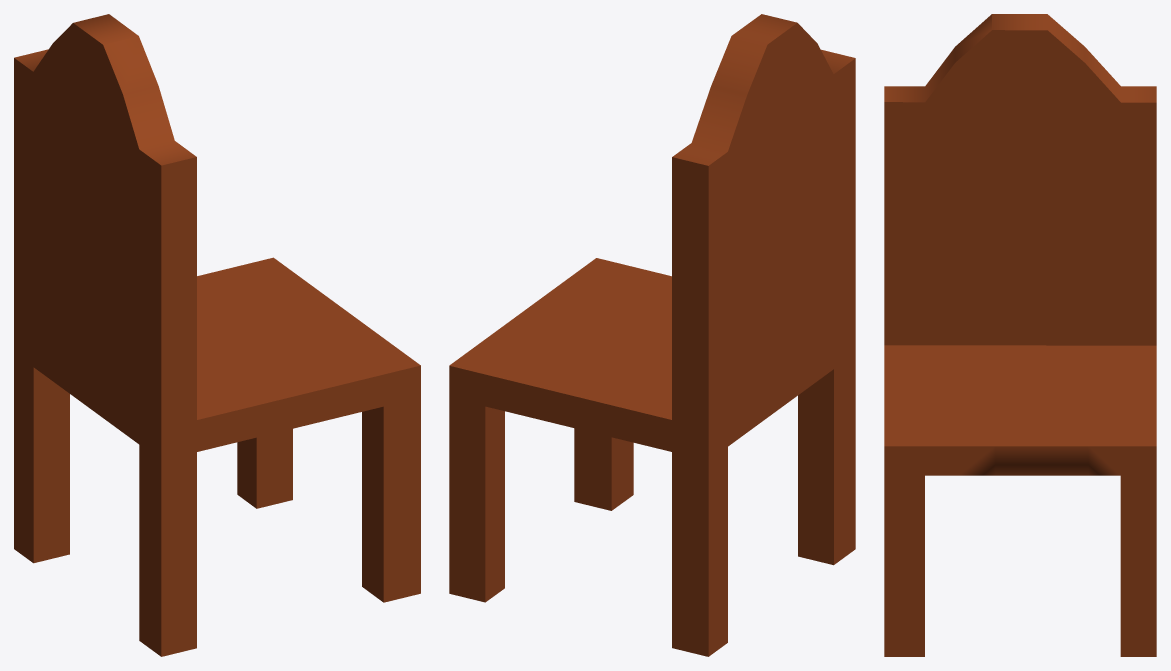
File: silla.FBX
The picture shows the model from 3 angles, left to right: view 1: azimuth 30°, elevation 25°; view 2: azimuth 150°, elevation 25°; view 3: azimuth 270°, elevation 25°; orthographic projection. The views are drawn at different scales.
Parts seen in each view (by area): view 1: Box001; view 2: Box001; view 3: Box001.
Boxes of the visible parts, bbox=[...] form: Box001: bbox=[14, 14, 420, 656]; Box001: bbox=[449, 14, 855, 656]; Box001: bbox=[884, 14, 1156, 656].
Bounding box in the file's own units: 19.09 × 40.02 × 18.78.
